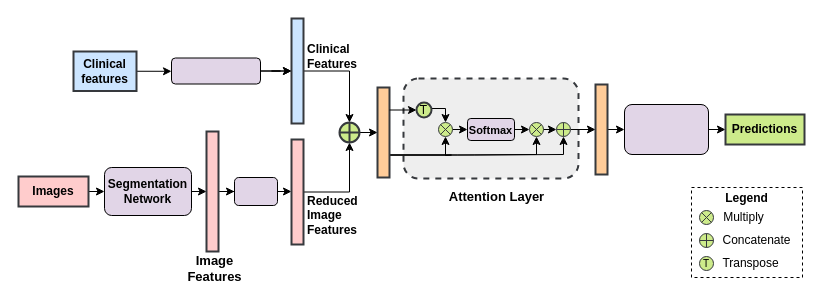
Some shapes in this 822 by 301 pixel diagram are drawn without their labels. Here are the shapes that lost their labels. From the top down, the centre of each, then its label:
At [215,70]: "Preprocessing".
At [666,129]: "Classification Head".
At [256,191]: "PCA".
